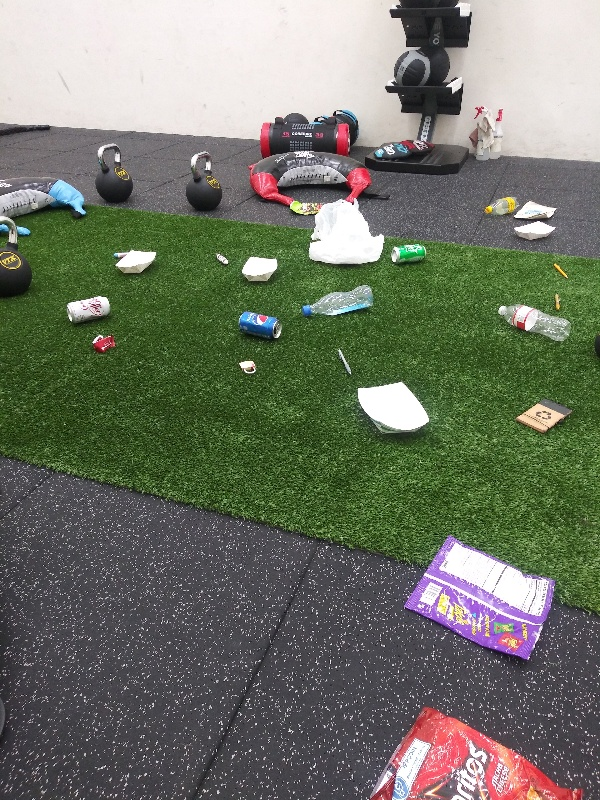bag: (356, 706, 587, 800), (402, 532, 559, 669), (514, 200, 559, 221), (286, 198, 324, 216)
bottle: (496, 302, 574, 345), (300, 283, 381, 319), (482, 194, 519, 216)
can: (63, 295, 114, 327), (237, 309, 287, 339), (387, 239, 430, 268)
plate: (352, 380, 431, 439), (240, 253, 282, 286), (512, 217, 558, 245), (114, 249, 161, 275)
